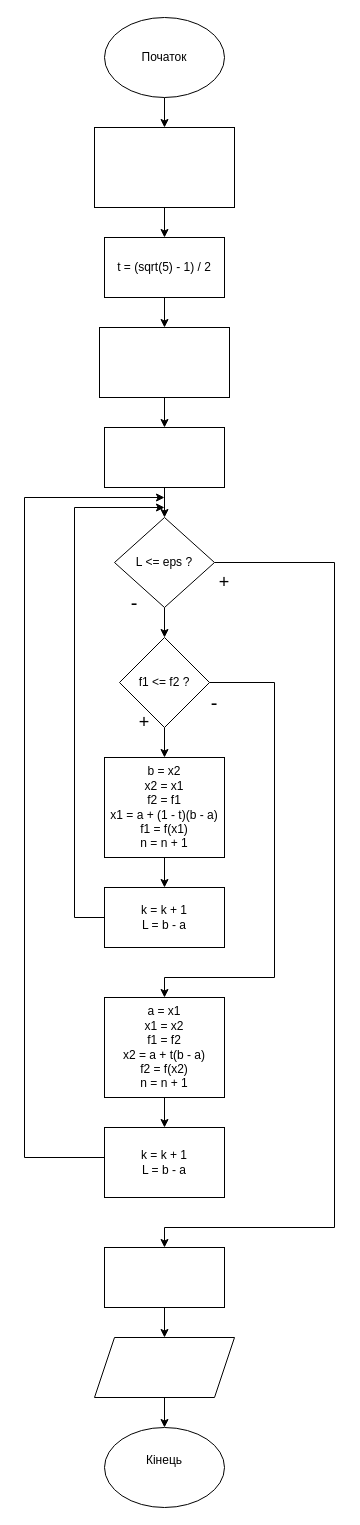
Some shapes in this 360 by 1525 pixel diagram are drawn without their labels. The shapes that lost their labels are listed below. From the top down, each one's centre as x and y in pixels, then its label:
At (x=164, y=167): "a = 0.45 b = 0.75 eps = 0.01 n = 2 k = 1".
At (x=164, y=362): "x1 = a + (1 - t)(b - a) x2 = a + t(b - a) f1 = f(x1) f2 = f(x2)".
At (x=164, y=457): "L = b - a".
At (x=164, y=1277): "x = (a + b) / 2".
At (x=164, y=1367): "Вивести x*, f(x*), n".
